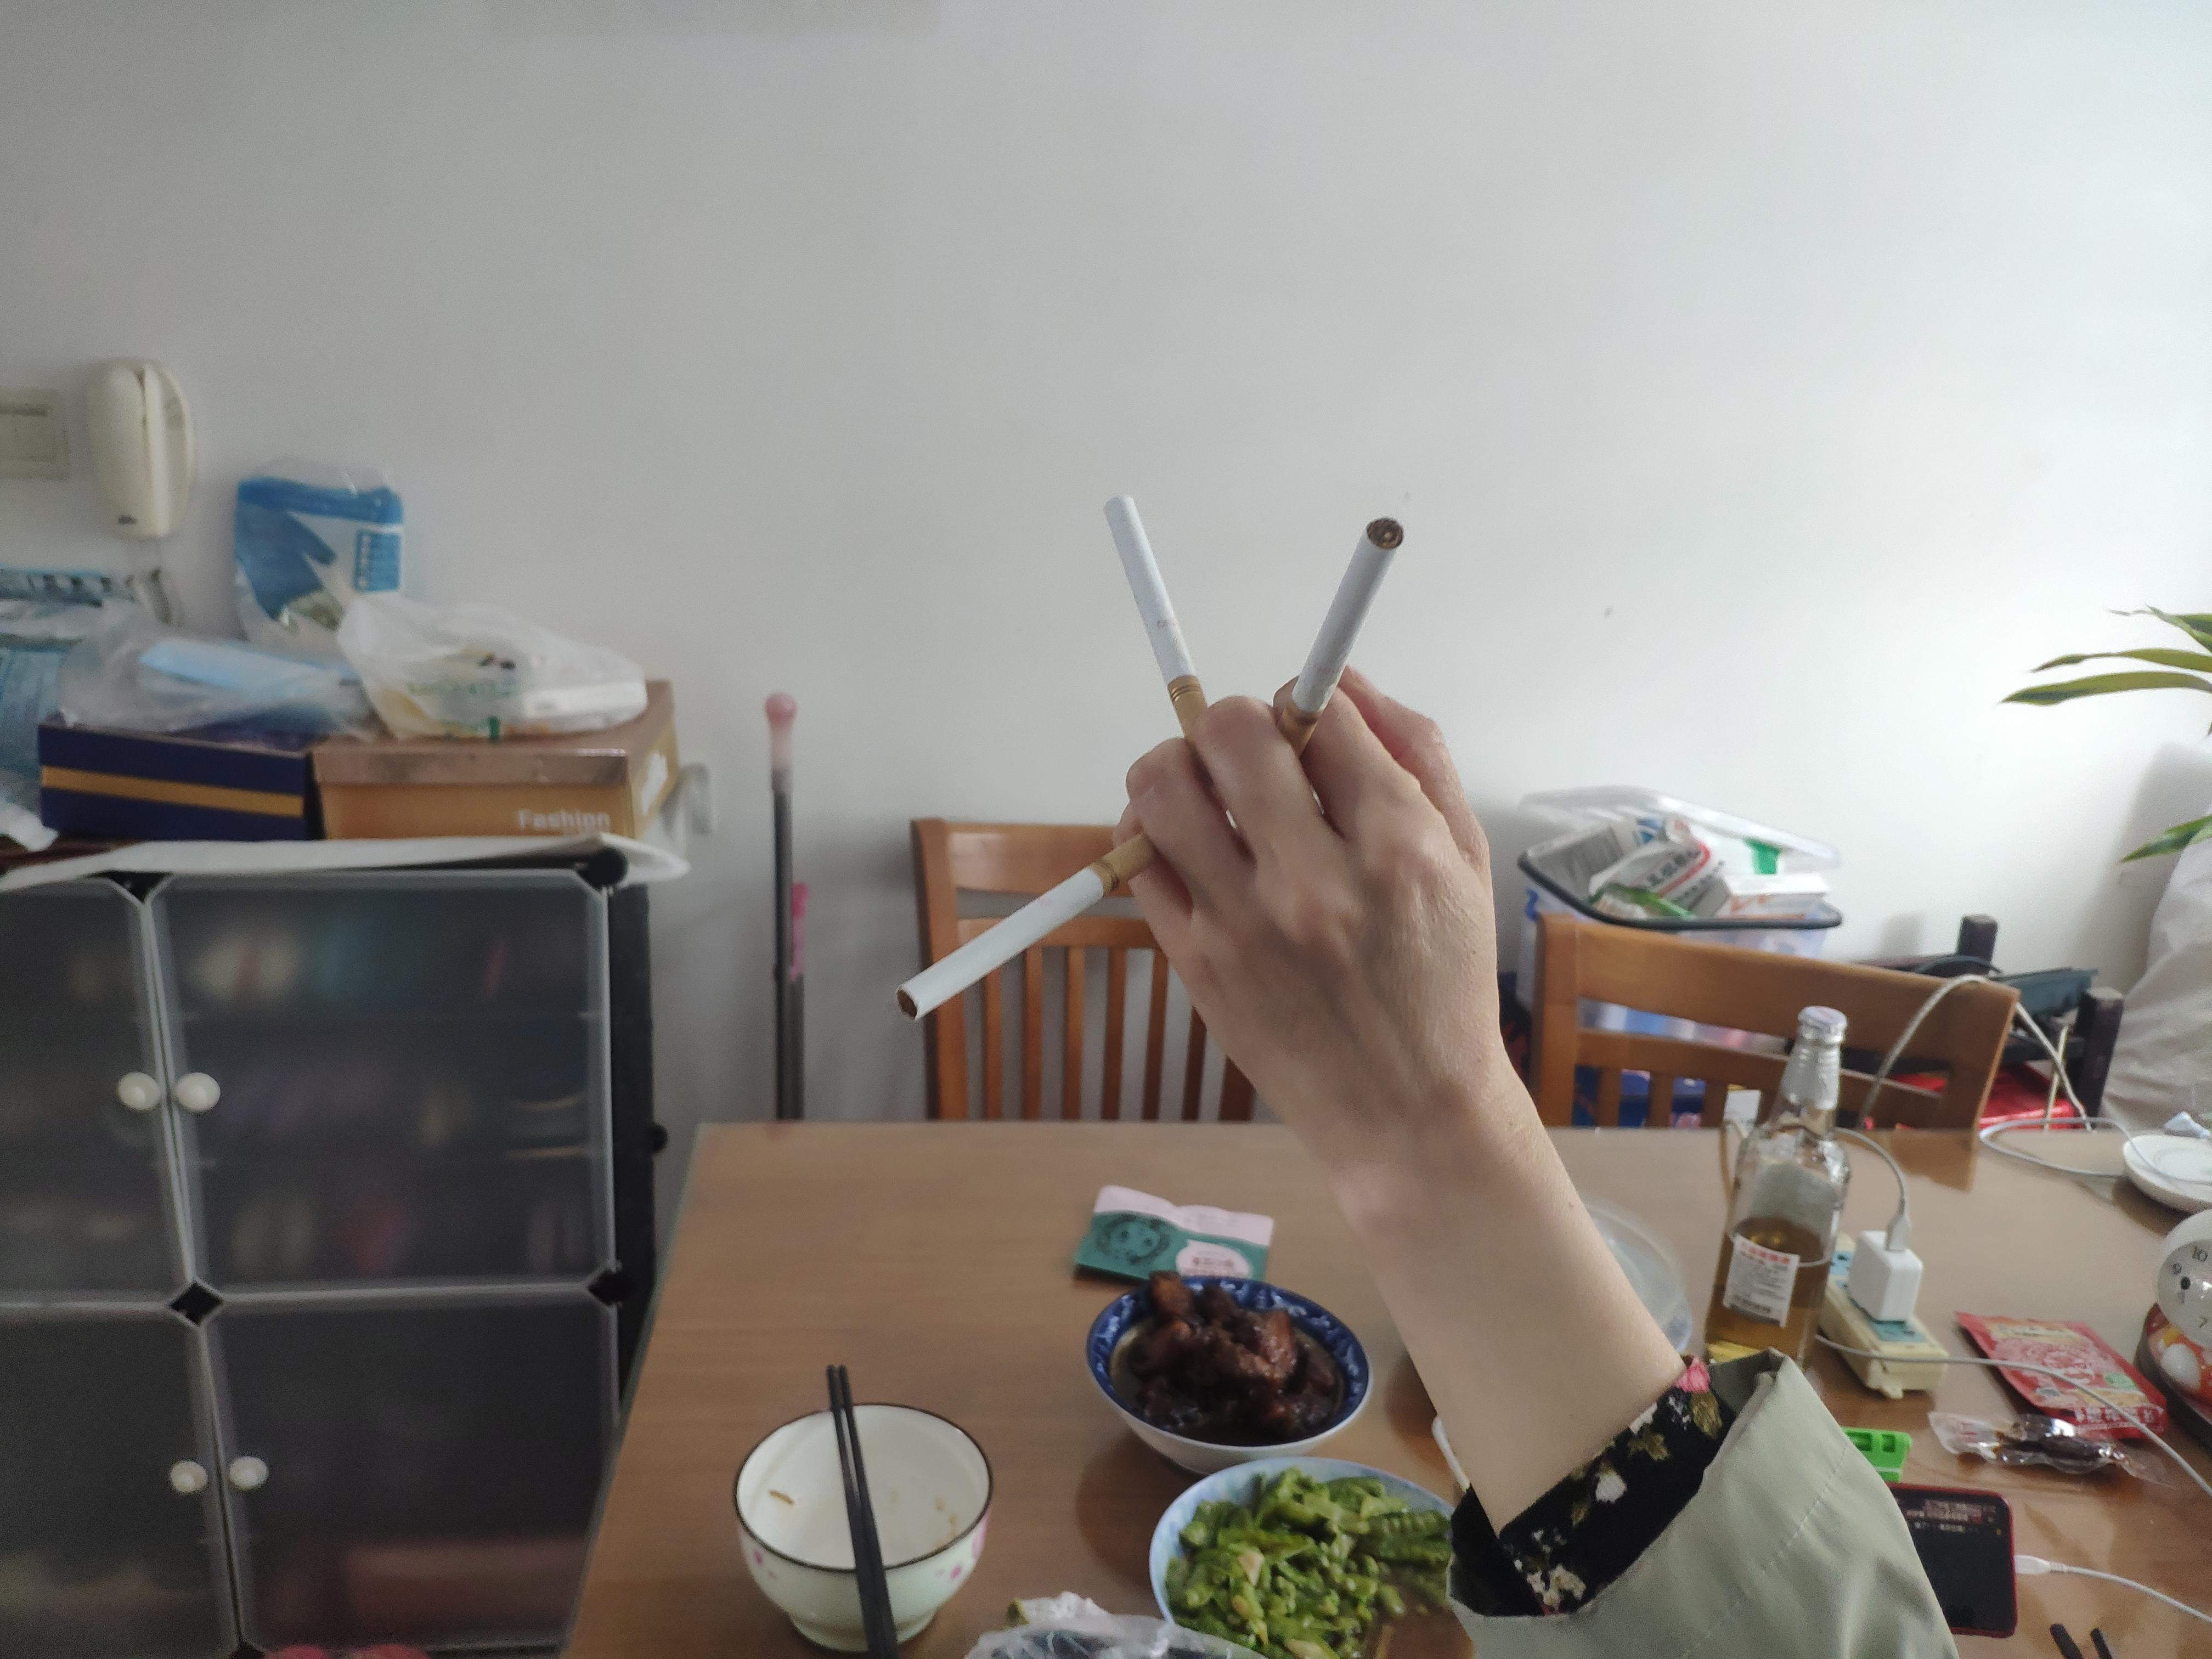smoke: (892, 828, 1169, 1026), (1104, 491, 1235, 784), (1263, 512, 1411, 765)
